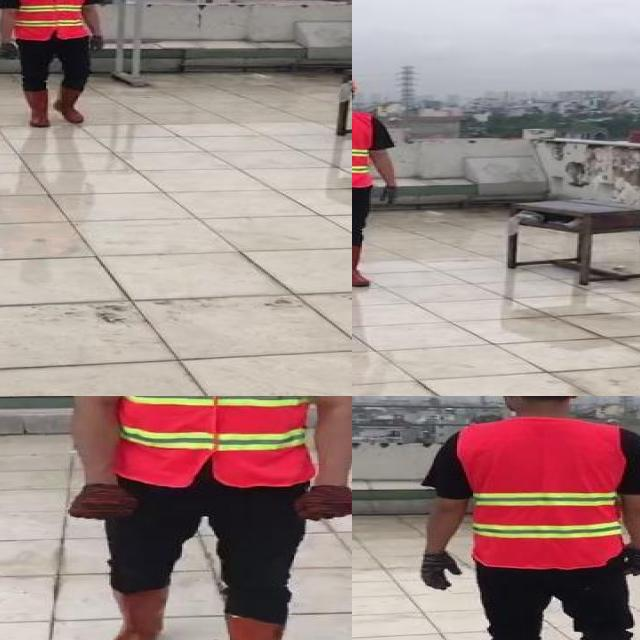boots: (98, 585, 164, 640), (219, 613, 302, 640), (51, 85, 87, 126), (23, 91, 51, 129), (352, 244, 369, 289)
hand_glove: (70, 487, 139, 523), (292, 484, 352, 520), (422, 550, 462, 591), (622, 544, 640, 578), (0, 43, 21, 61), (87, 35, 105, 55), (382, 184, 399, 203)
person: (48, 396, 352, 640), (410, 396, 640, 640), (0, 0, 116, 130), (352, 68, 403, 293)
vest: (457, 419, 622, 567), (103, 396, 315, 486), (14, 0, 87, 37), (352, 109, 374, 187)
